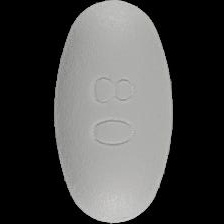51655-880: (0, 0, 224, 224)
